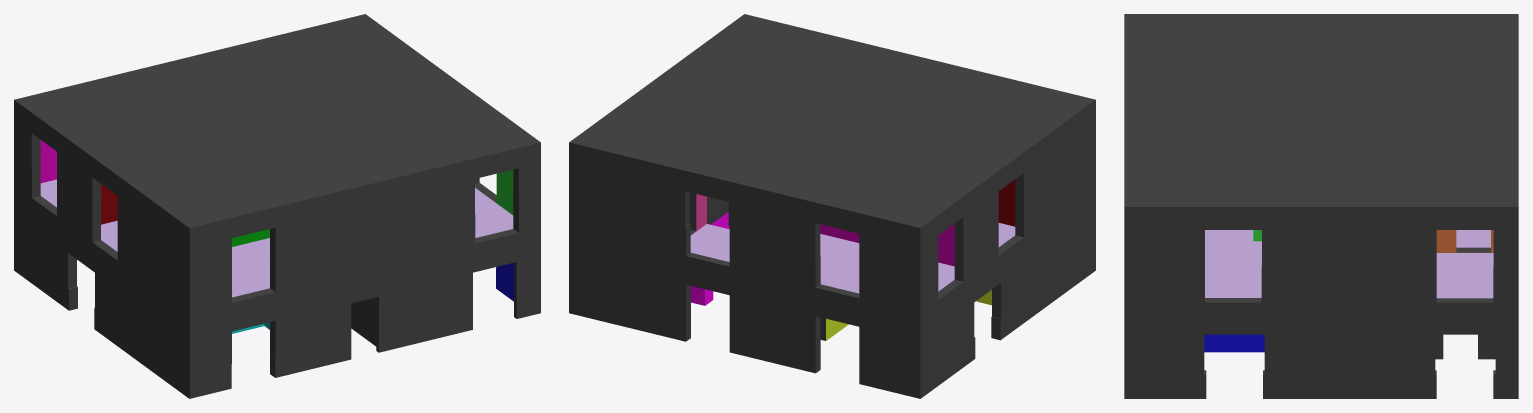
Rendered from btrhousefornav.glb.
The picture shows the model from 3 angles, left to right: view 1: azimuth 30°, elevation 25°; view 2: azimuth 150°, elevation 25°; view 3: azimuth 270°, elevation 25°; orthographic projection. The views are drawn at different scales.
Visible parts, largest first — view 1: Plane.006; view 2: Plane.006; view 3: Plane.006.
Boxes of the visible parts, left/top/right/bottom form: Plane.006: left=14, top=14, right=540, bottom=398; Plane.006: left=569, top=14, right=1095, bottom=398; Plane.006: left=1124, top=14, right=1518, bottom=398.
Size of the model in its own units: 7.81 by 3.63 by 6.76.
